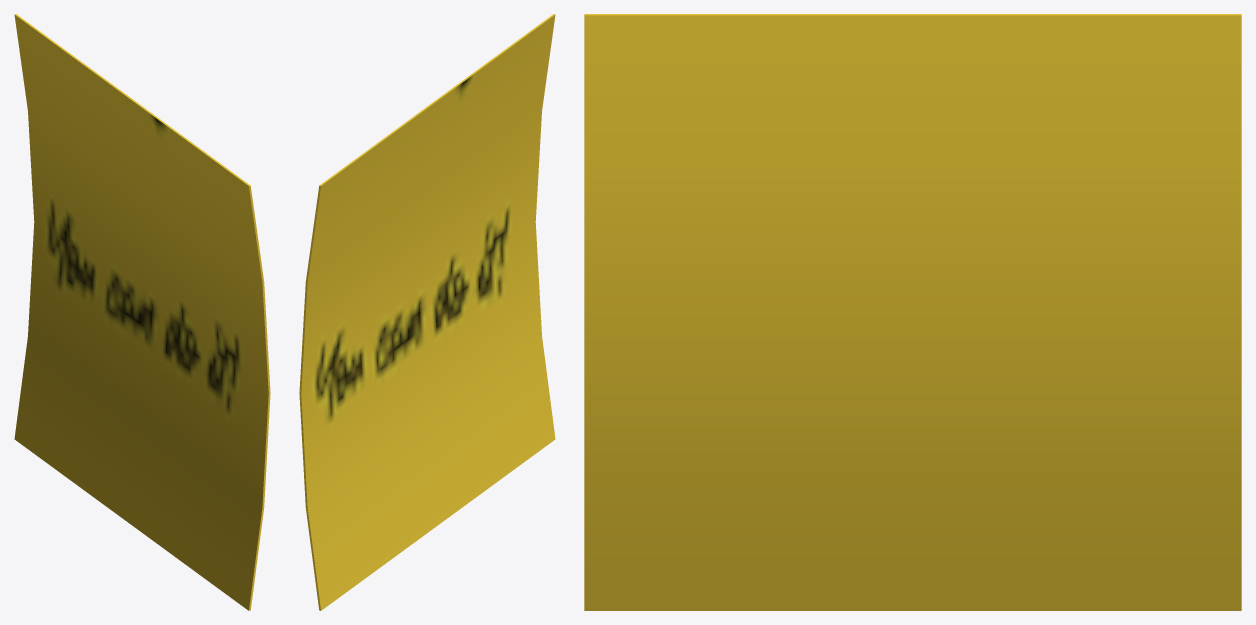
Rendered from Sticker22.fbx.
The picture shows the model from 3 angles, left to right: view 1: azimuth 30°, elevation 25°; view 2: azimuth 150°, elevation 25°; view 3: azimuth 270°, elevation 25°; orthographic projection. The views are drawn at different scales.
Visible parts, largest first — view 1: Sticker22; view 2: Sticker22; view 3: Sticker22.
Part boxes in pixels (box(x1,y1,x2,y2)): Sticker22: box(14, 14, 270, 610); Sticker22: box(299, 14, 555, 610); Sticker22: box(584, 14, 1241, 610).
Size of the model in its own units: 0.004 by 0.075 by 0.075.
